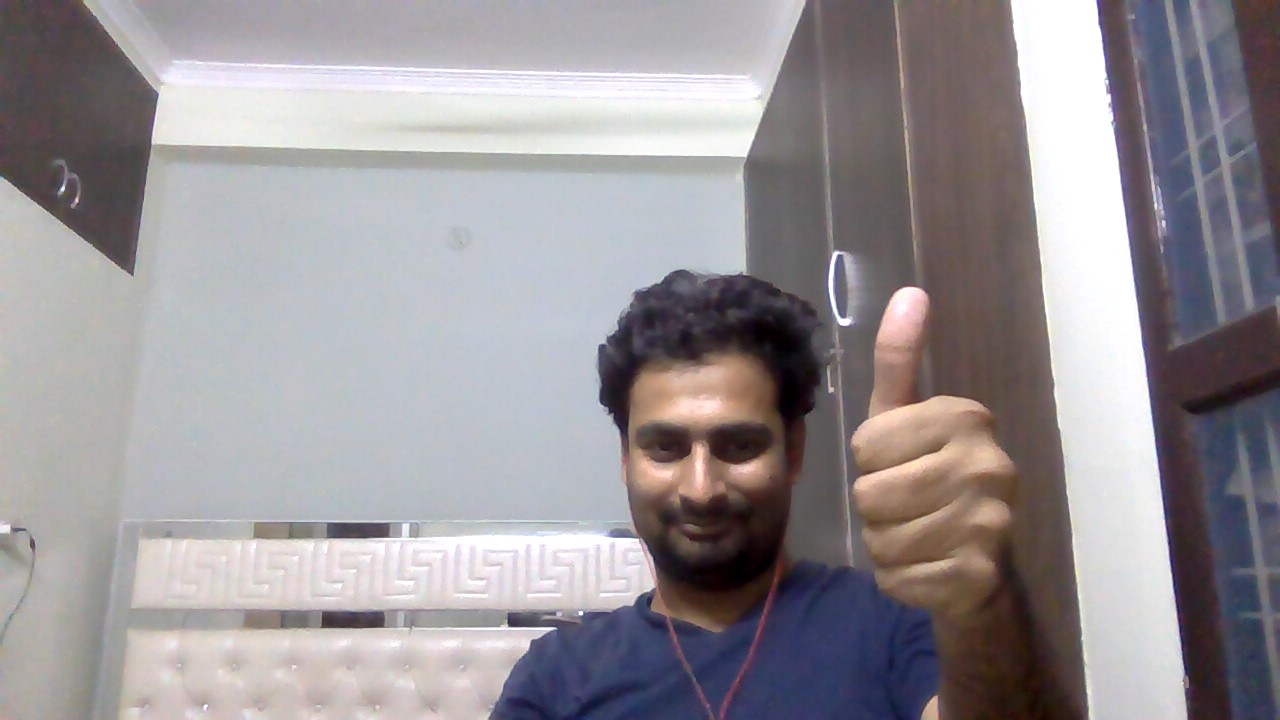Save: (838, 276, 1030, 626)
